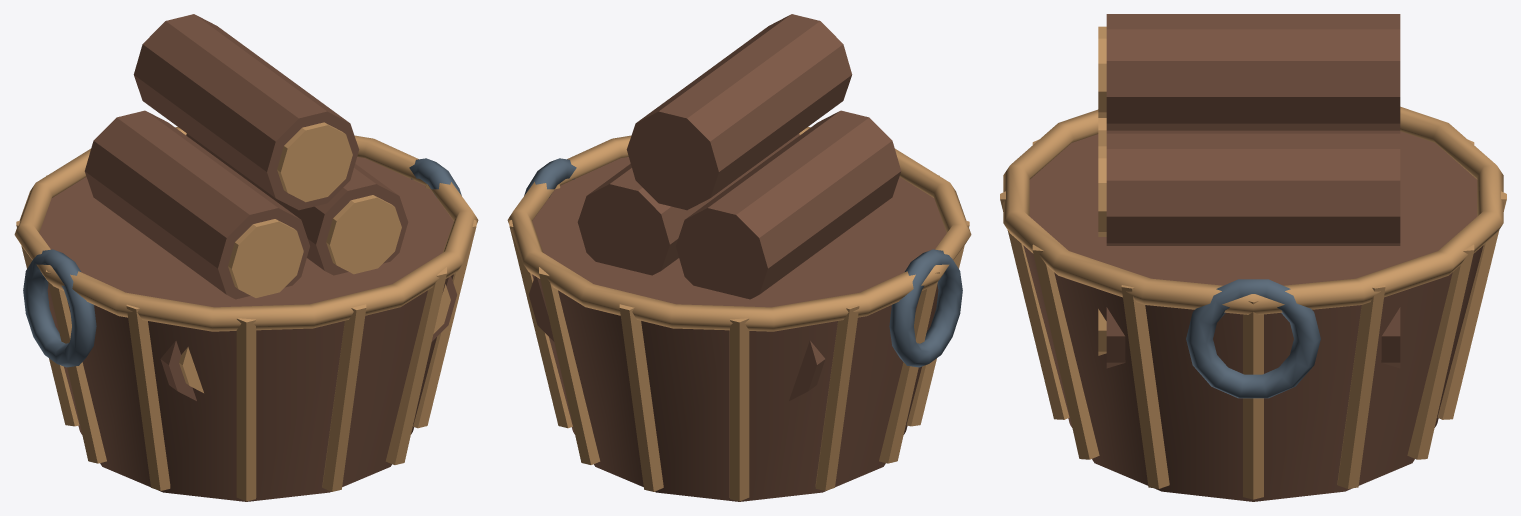
Rendered from alpine-snow-village-split-log-basket-f8e5ac19__19829.glb.
The picture shows the model from 3 angles, left to right: view 1: azimuth 30°, elevation 25°; view 2: azimuth 150°, elevation 25°; view 3: azimuth 270°, elevation 25°; orthographic projection. The views are drawn at different scales.
Parts seen in each view (by area): view 1: split-log-basket-wood, split-log-basket-oak, split-log-basket-iron; view 2: split-log-basket-wood, split-log-basket-oak, split-log-basket-iron; view 3: split-log-basket-wood, split-log-basket-oak, split-log-basket-iron.
Boxes of the visible parts, x1,y1,x2,y2 form: split-log-basket-wood: [39, 14, 457, 501]; split-log-basket-oak: [14, 122, 478, 501]; split-log-basket-iron: [23, 158, 461, 367]; split-log-basket-wood: [528, 14, 946, 501]; split-log-basket-oak: [507, 127, 971, 501]; split-log-basket-iron: [524, 158, 962, 367]; split-log-basket-wood: [1023, 14, 1483, 501]; split-log-basket-oak: [1000, 26, 1506, 499]; split-log-basket-iron: [1186, 279, 1320, 398].
Size of the model in its own units: 0.95 by 0.8231 by 0.9389.
